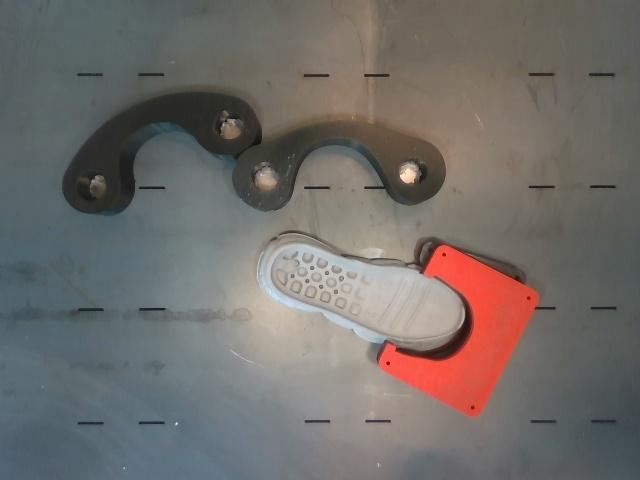shoes: (269, 244, 464, 341)
